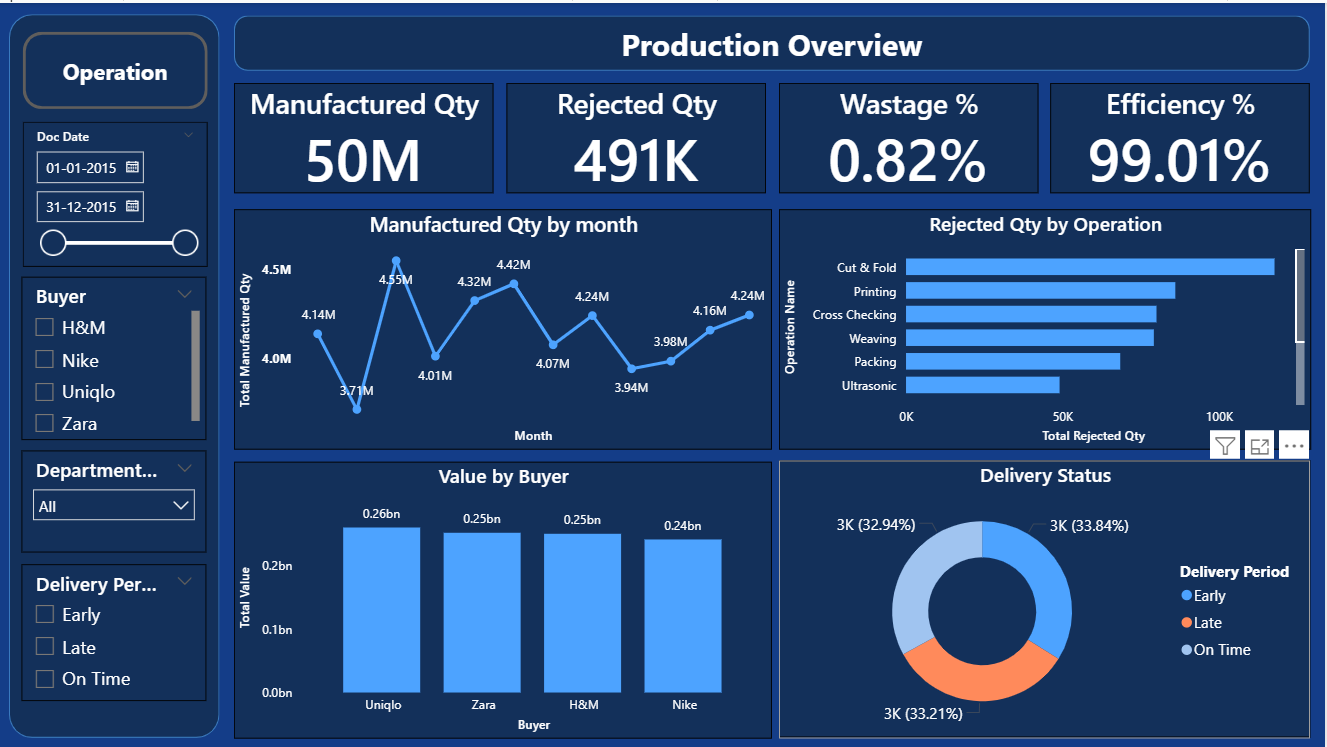

What the dashboard file says about the page in this screenshot:
{"tool":"powerbi","page":{"name":"production overview","canvas":[1280,720],"ordinal":0},"visuals":[{"type":"shape","box":[9.7,11.1,203.1,698.4],"z":0},{"type":"card","title":"Manufactured Qty","fields":{"Values":["Sheet1.Total Manufactured Qty"]},"box":[226.7,76.7,250,106.7],"z":1000},{"type":"card","title":"Efficiency %","fields":{"Values":["Sheet1.Efficiency%"]},"box":[1015,76.7,250,106.7],"z":2000},{"type":"card","title":"Wastage %","fields":{"Values":["Sheet1.Wastage %"]},"box":[752.2,76.7,250,106.7],"z":3000},{"type":"card","title":"Rejected Qty","fields":{"Values":["Sheet1.Total Rejected Qty"]},"box":[489.4,76.7,250,106.7],"z":4000},{"type":"lineChart","title":"Manufactured Qty by month","fields":{"Category":["Sheet1.MonthNo","Sheet1.Month"],"Y":["Sheet1.Total Manufactured Qty"]},"box":[226.8,199,519,232.3],"z":5000},{"type":"shape","box":[226.7,11.7,1038.3,53.3],"z":6000},{"type":"barChart","title":" Rejected Qty by Operation ","fields":{"Y":["Sheet1.Total Rejected Qty"],"Category":["Sheet1.Operation Name"]},"box":[752.7,199,513.4,232.3],"z":7000},{"type":"clusteredColumnChart","title":"Value by Buyer","fields":{"Category":["Sheet1.Buyer"],"Y":["Sheet1.Total Value"]},"box":[226.8,442.4,519,267.1],"z":8000},{"type":"donutChart","title":" Delivery Status","fields":{"Category":["Sheet1.Delivery Period"],"Y":["Sheet1.Work Orders"]},"box":[753,442,513,267],"z":9000},{"type":"actionButton","box":[22.9,27.7,178.6,74.8],"z":10000},{"type":"slicer","fields":{"Values":["Sheet1.Doc Date"]},"box":[22.9,114.6,178.6,139.9],"z":11000},{"type":"slicer","fields":{"Values":["Sheet1.Buyer"]},"box":[22.3,264.3,178.1,157.2],"z":12000},{"type":"slicer","fields":{"Values":["Sheet1.Department Name"]},"box":[22.3,431.3,178.1,98.8],"z":13000},{"type":"slicer","fields":{"Values":["Sheet1.Delivery Period"]},"box":[22.3,541.2,178.1,132.2],"z":14000}]}

Visuals, with their boxes in screenshot pixels (x1, y1, x2, y2), scaled from the page's 1280x720 canvas onto the 1327x747 screenshot:
shape: l=10, t=12, r=221, b=736
"Manufactured Qty" card: l=235, t=80, r=494, b=190
"Efficiency %" card: l=1052, t=80, r=1311, b=190
"Wastage %" card: l=780, t=80, r=1039, b=190
"Rejected Qty" card: l=507, t=80, r=767, b=190
"Manufactured Qty by month" lineChart: l=235, t=206, r=773, b=447
shape: l=235, t=12, r=1311, b=67
" Rejected Qty by Operation " barChart: l=780, t=206, r=1313, b=447
"Value by Buyer" clusteredColumnChart: l=235, t=459, r=773, b=736
" Delivery Status" donutChart: l=781, t=459, r=1312, b=736
actionButton: l=24, t=29, r=209, b=106
slicer - Sheet1.Doc Date: l=24, t=119, r=209, b=264
slicer - Sheet1.Buyer: l=23, t=274, r=208, b=437
slicer - Sheet1.Department Name: l=23, t=447, r=208, b=550
slicer - Sheet1.Delivery Period: l=23, t=561, r=208, b=699
